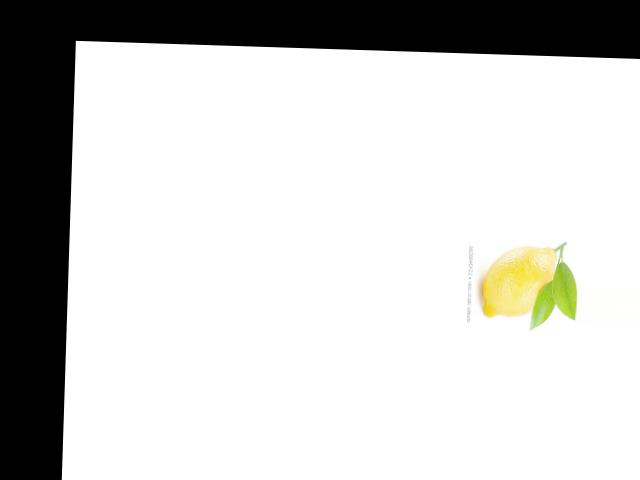lemon: (479, 240, 568, 327)
